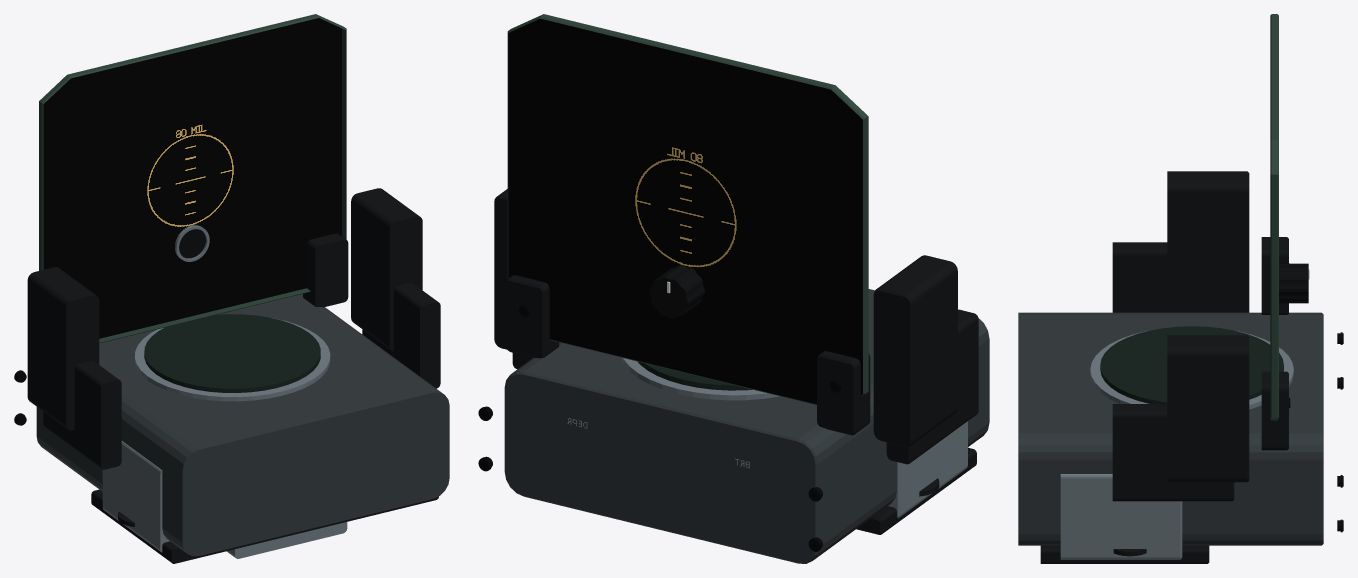
Rendered from MFDStudio.obj.
3 views of the same model, side by side, from view 1: azimuth 30°, elevation 25°; view 2: azimuth 150°, elevation 25°; view 3: azimuth 270°, elevation 25° (orthographic). The views are drawn at different scales.
Visible parts, largest first — view 1: MFDStudioBody, MFDStudioScreen, MFDStudioCombinerFrame, MFDStudioKnob0; view 2: MFDStudioScreen, MFDStudioBody, MFDStudioCombinerFrame, MFDStudioKnob0, MFDStudioScrewsBase; view 3: MFDStudioBody, MFDStudioCombinerFrame, MFDStudioKnob0.
Boxes of the visible parts, x1,y1,x2,y2 form: MFDStudioBody: (27,188,449,563); MFDStudioScreen: (43,18,341,338); MFDStudioCombinerFrame: (39,14,348,343); MFDStudioKnob0: (174,224,209,261); MFDStudioScreen: (508,18,862,404); MFDStudioBody: (494,189,989,563); MFDStudioCombinerFrame: (506,14,870,435); MFDStudioKnob0: (649,265,704,318); MFDStudioScrewsBase: (478,406,822,551); MFDStudioBody: (1018,171,1323,563); MFDStudioCombinerFrame: (1261,14,1288,450); MFDStudioKnob0: (1279,263,1309,303).
Size of the model in its own units: 0.1724 by 0.1982 by 0.131.
Materials: 11 (1 with a texture image).
